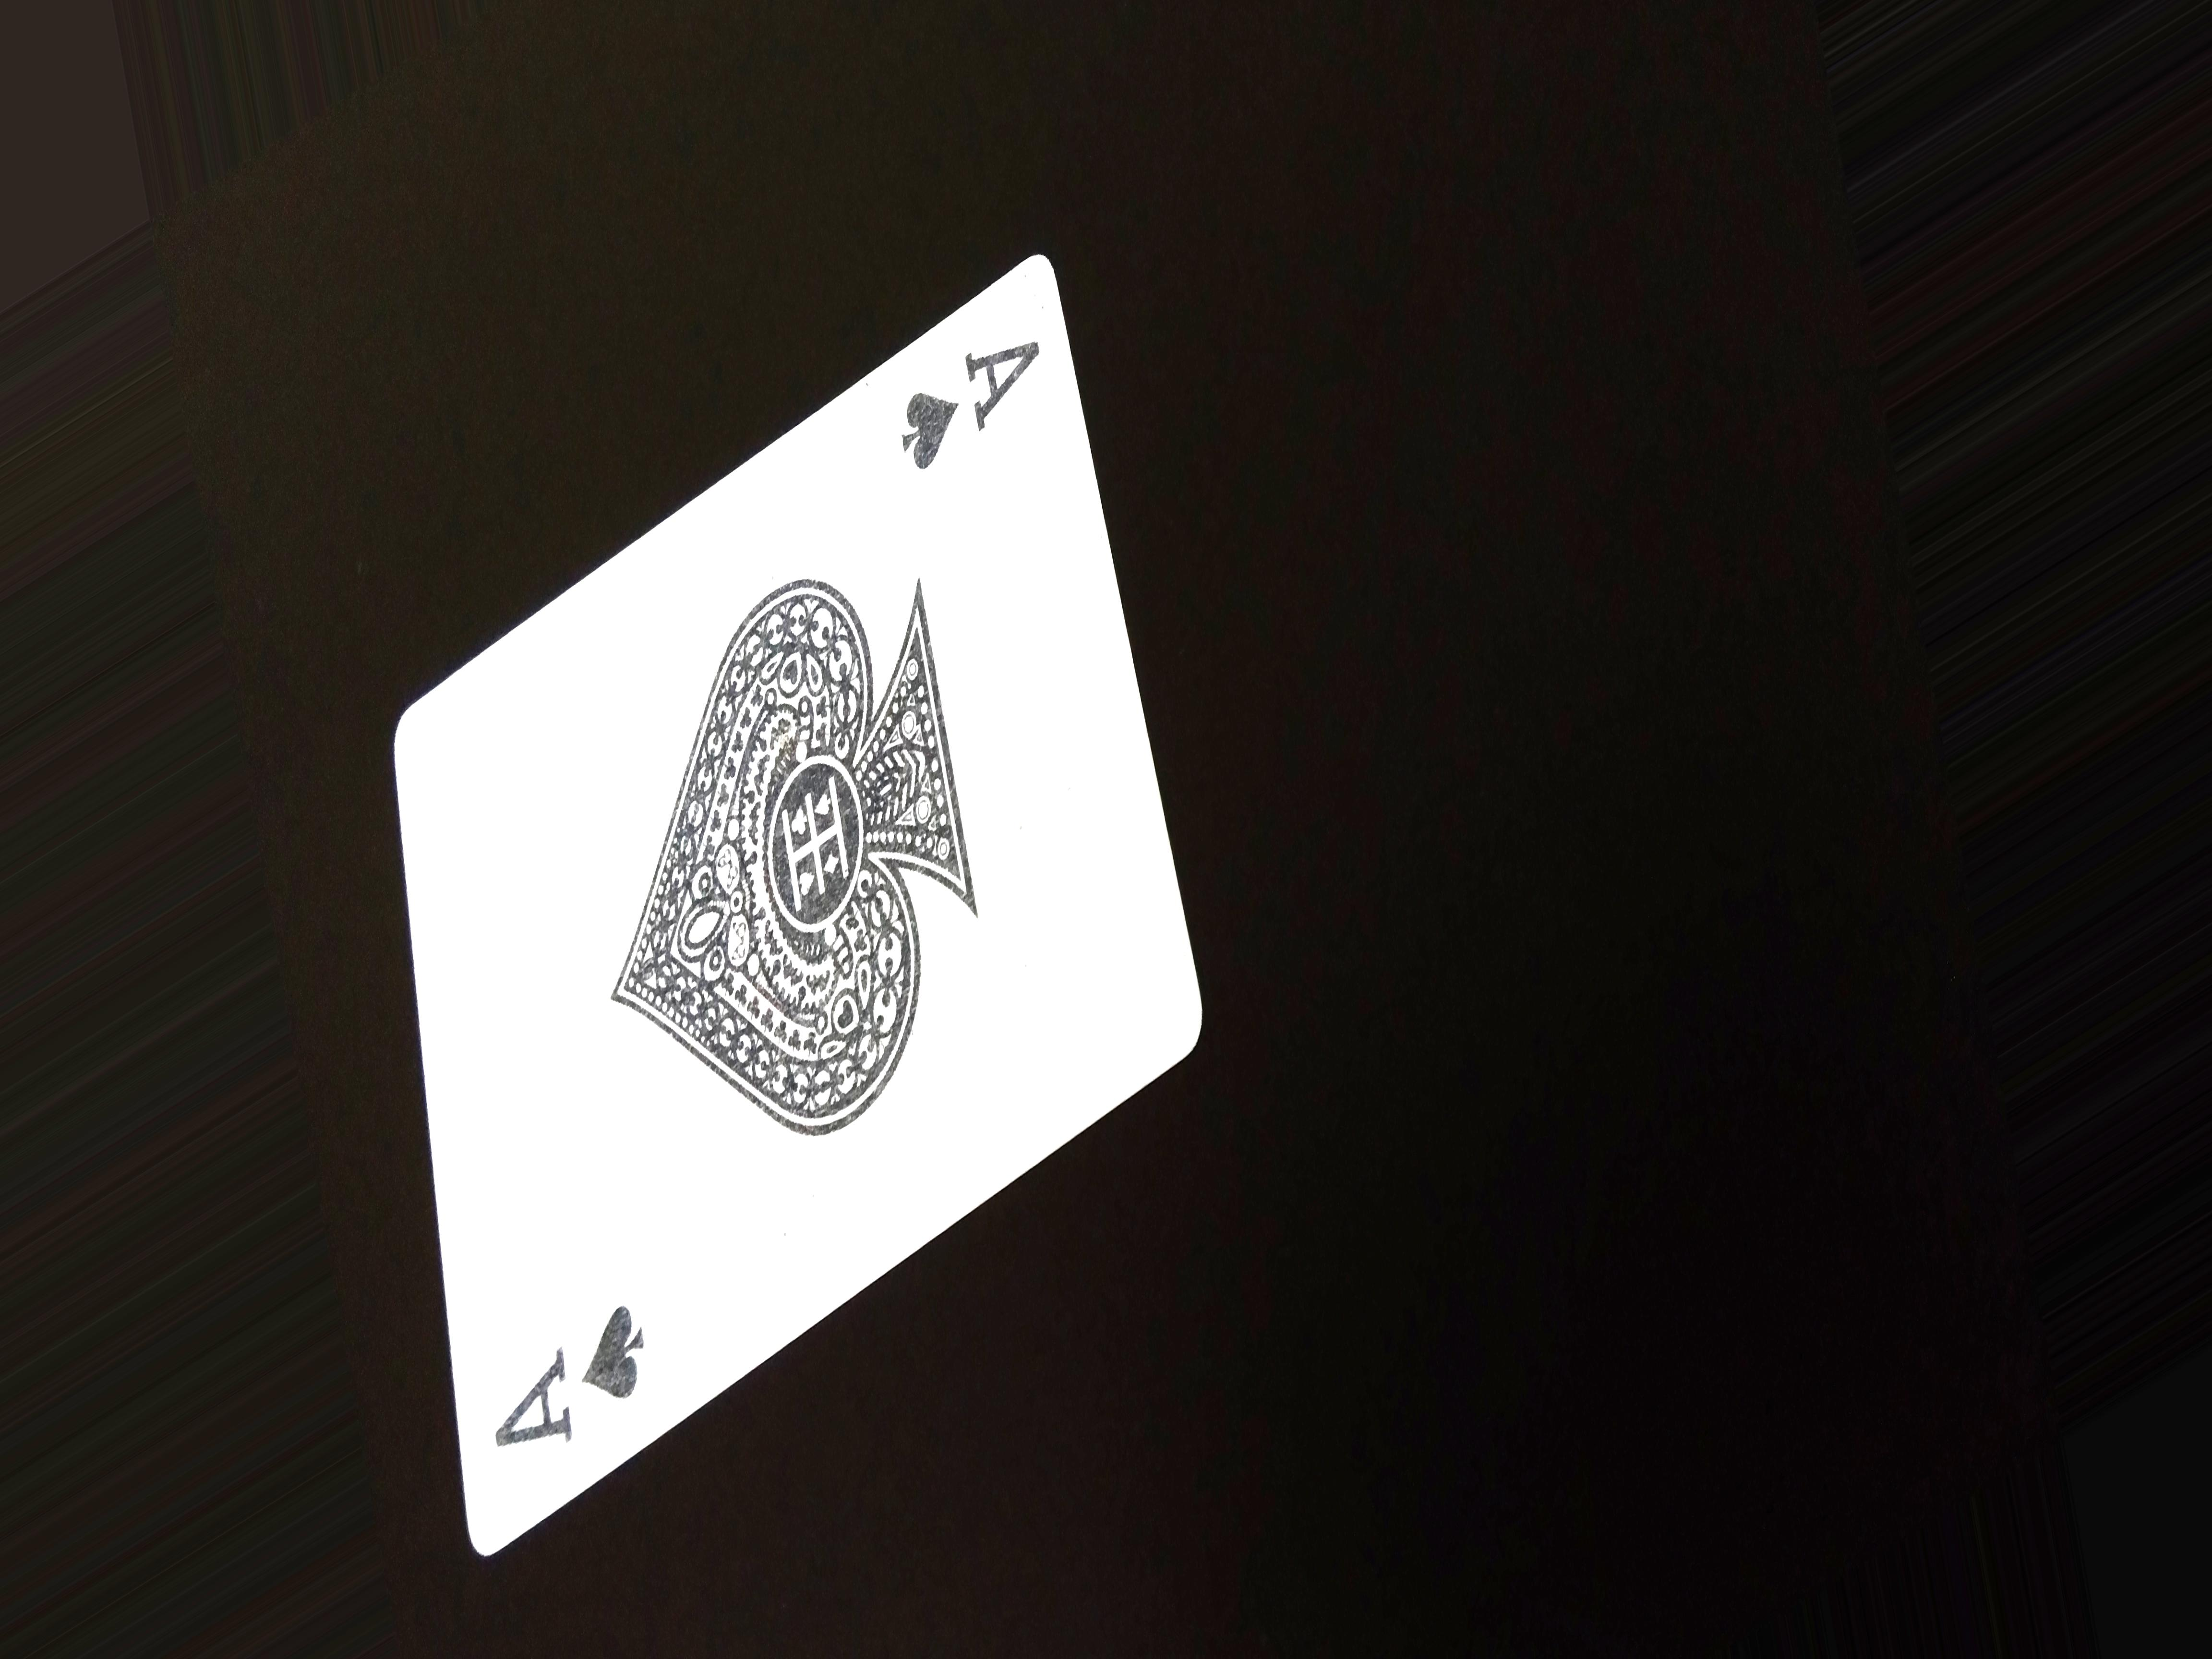AS: (895, 324, 1047, 481)
